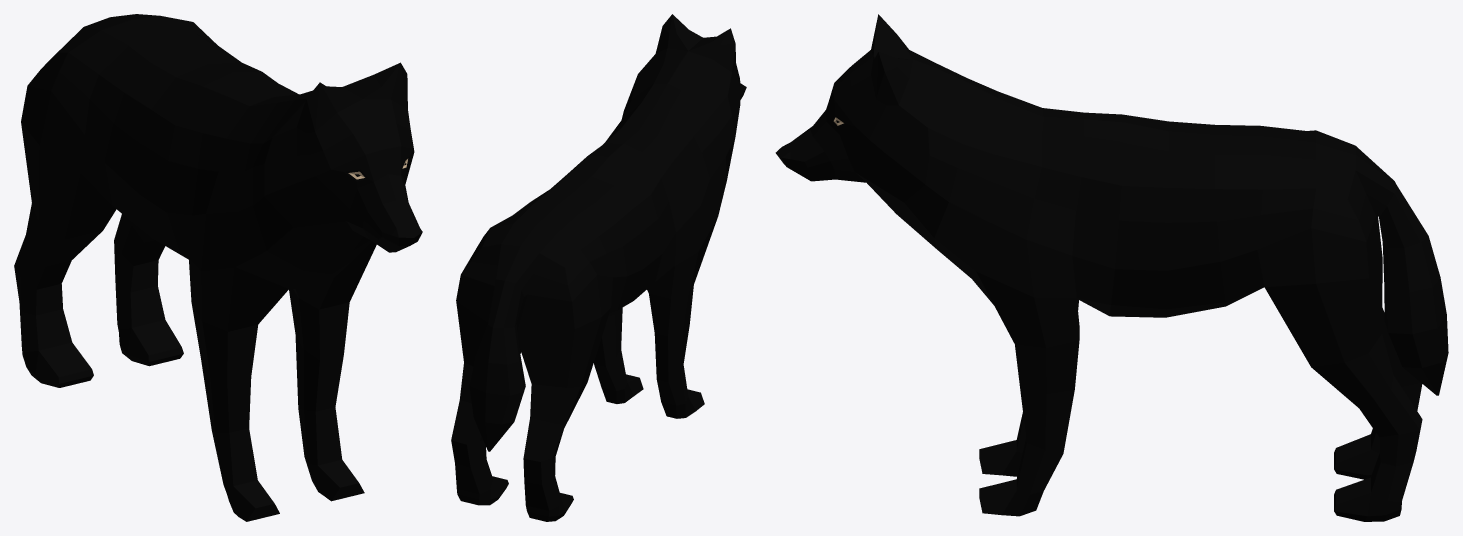
File: Wolf.fbx
3 renders of one model, left to right at view 1: azimuth 30°, elevation 25°; view 2: azimuth 150°, elevation 25°; view 3: azimuth 270°, elevation 25°, orthographic. The views are drawn at different scales.
Visible parts, largest first — view 1: Wolf; view 2: Wolf; view 3: Wolf.
Part boxes in pixels (x1=…): Wolf: x1=14, y1=14, x2=422, y2=521; Wolf: x1=451, y1=14, x2=746, y2=521; Wolf: x1=775, y1=14, x2=1448, y2=521.
Bounding box in the file's own units: 0.204 × 0.5139 × 0.6828.
